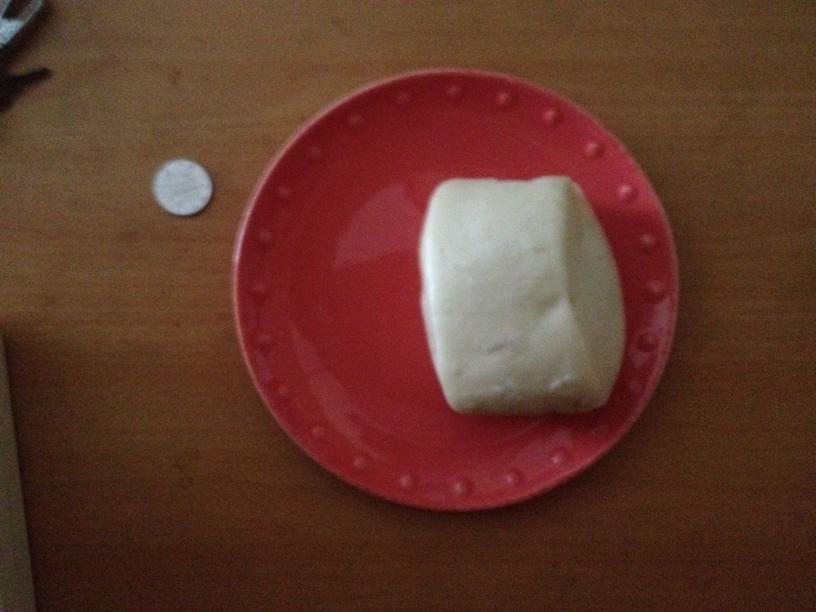bun: (417, 172, 630, 411)
coin: (154, 158, 211, 214)
